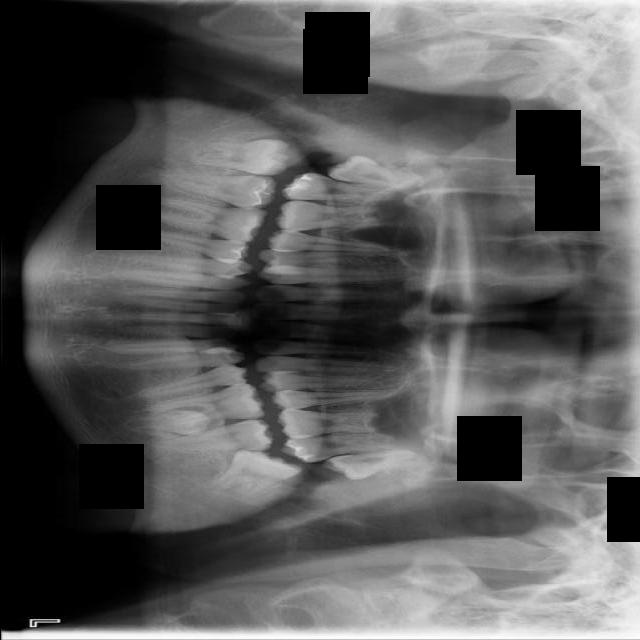3M ESPE Implant: (324, 151, 426, 192)
52: (212, 196, 267, 251), (226, 167, 280, 216), (280, 171, 338, 202), (279, 435, 334, 463), (208, 238, 249, 265)
73: (38, 596, 54, 602)
BioHorizons Implant: (278, 427, 401, 465)
BioLife Implant: (320, 445, 426, 484)
Biomet 3i Implant: (207, 441, 304, 505)
Caries: (280, 171, 412, 207)
Implant: (169, 171, 278, 212)
Keystone Dental Implant: (196, 139, 288, 175)
